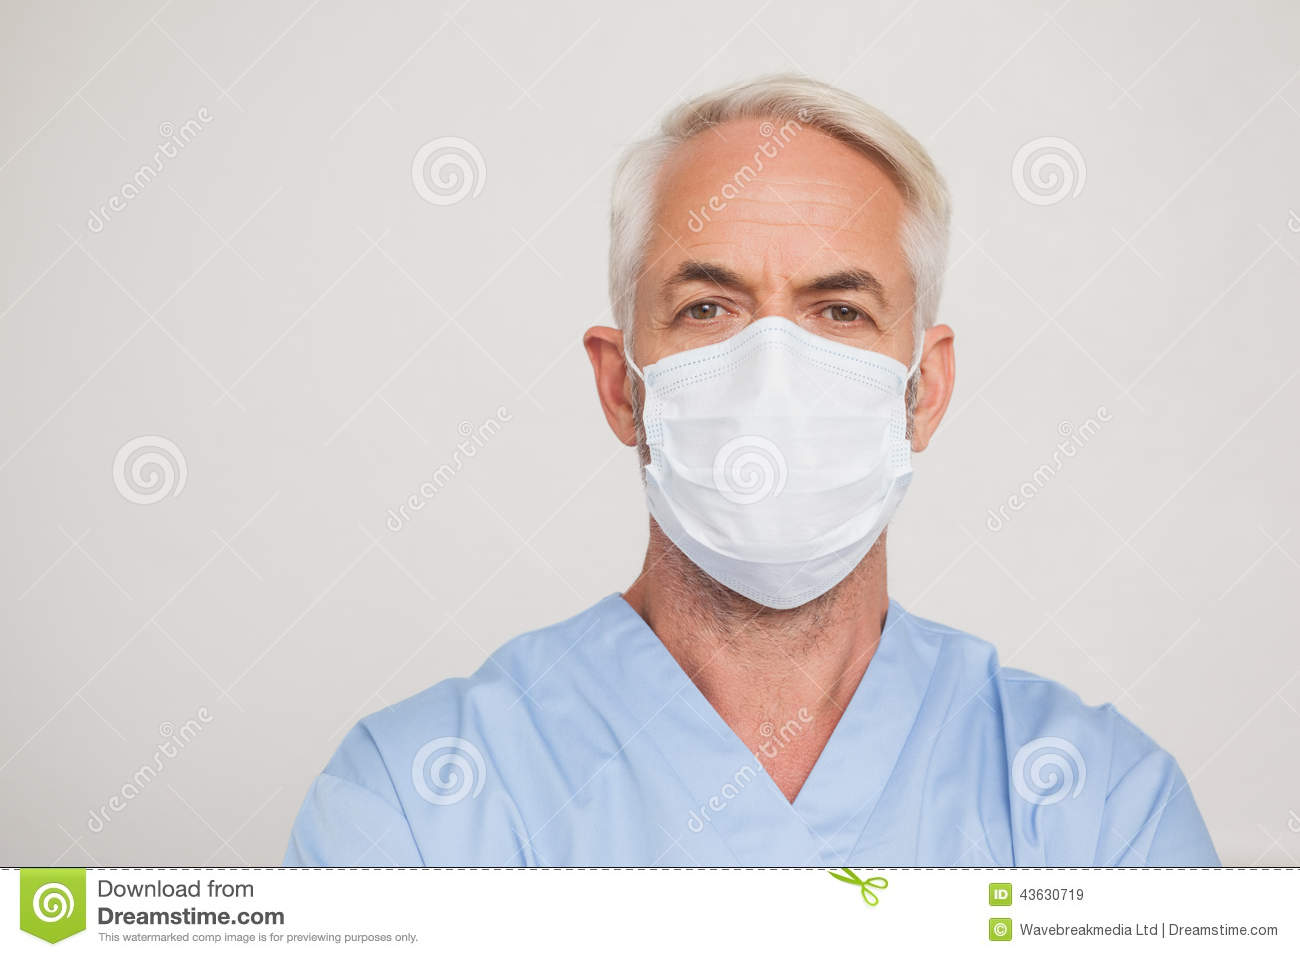mask: (626, 327, 941, 619)
